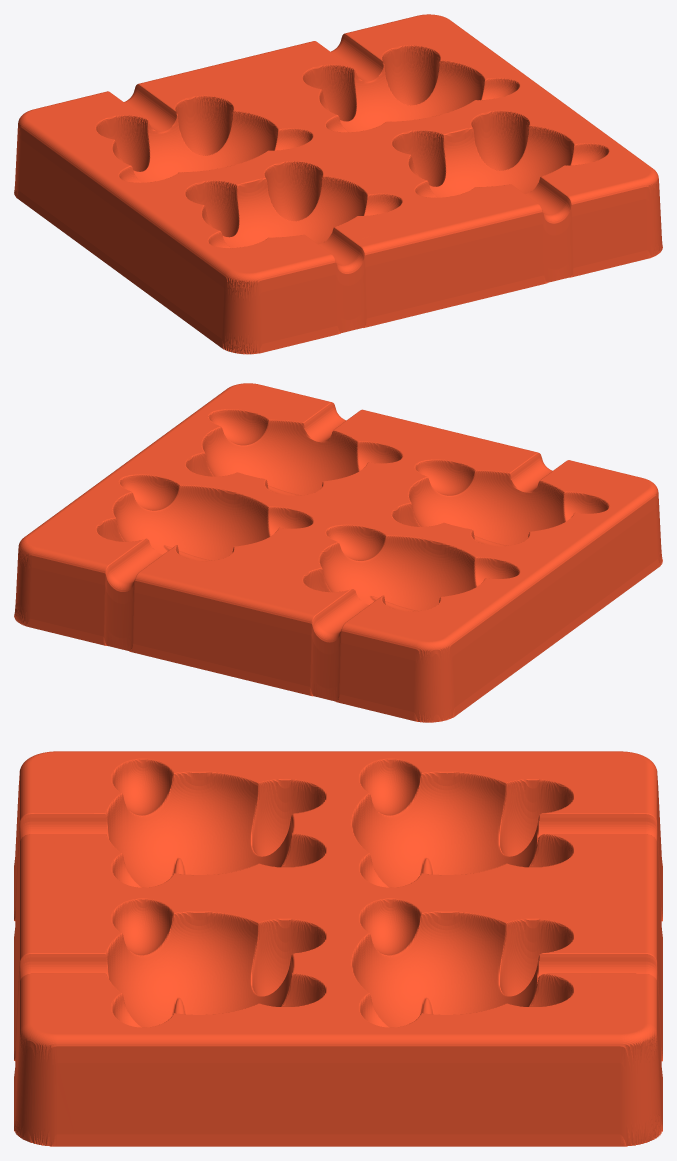
Rendered from mold.glb.
3 renders of one model, top to bottom at view 1: azimuth 30°, elevation 25°; view 2: azimuth 150°, elevation 25°; view 3: azimuth 270°, elevation 25°, orthographic. The views are drawn at different scales.
Parts seen in each view (by area): view 1: geometry_0; view 2: geometry_0; view 3: geometry_0.
Part boxes in pixels (box(x1,y1,x2,y2)): geometry_0: box(14, 14, 662, 354); geometry_0: box(14, 383, 662, 722); geometry_0: box(14, 751, 662, 1146).
Size of the model in its own units: 0.1473 by 0.0244 by 0.1365.
